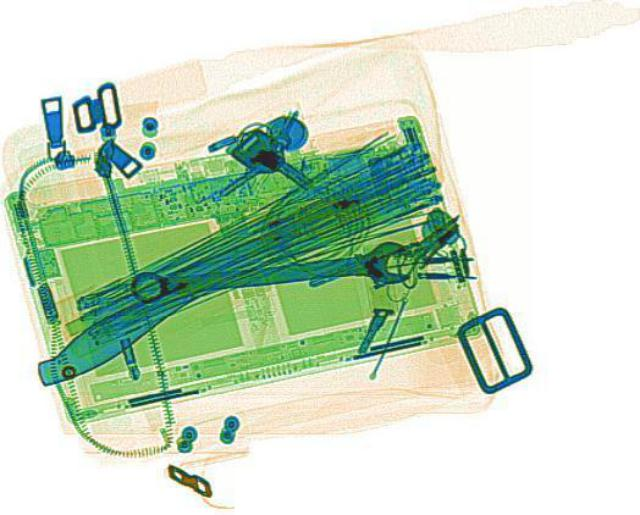Knife: (19, 251, 242, 390)
Wrench: (124, 237, 414, 308)
